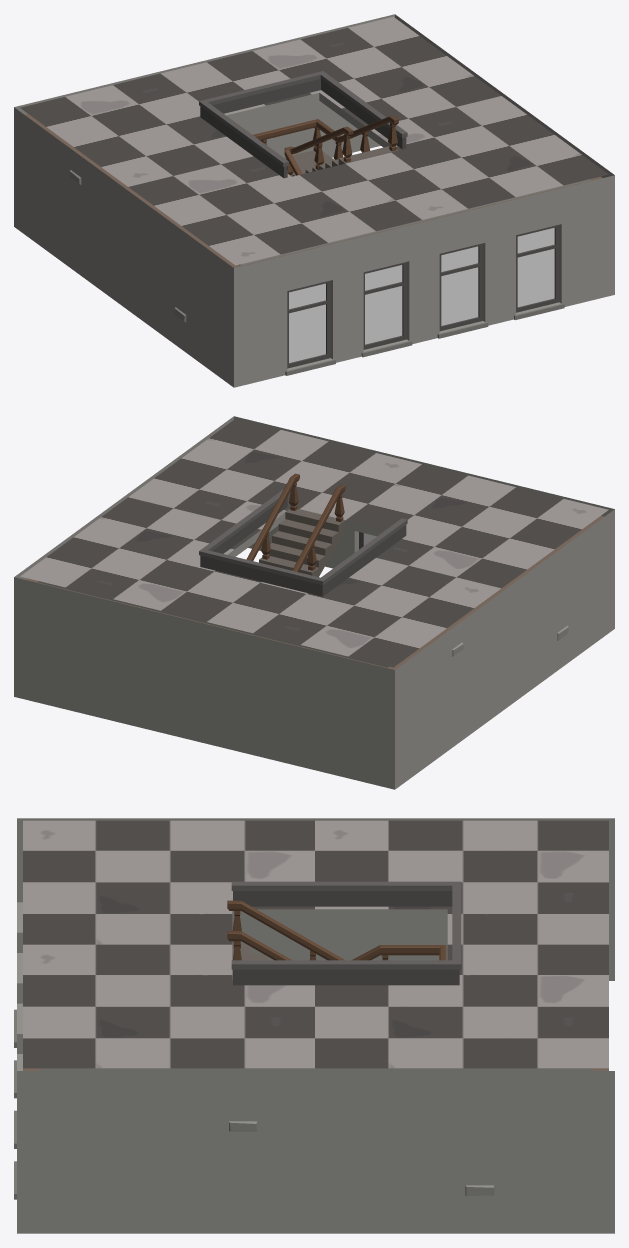
Rendered from SM_Bldg_City_High-Rise_05_Mid_01.fbx.
The picture shows the model from 3 angles, top to bottom: view 1: azimuth 30°, elevation 25°; view 2: azimuth 150°, elevation 25°; view 3: azimuth 270°, elevation 25°; orthographic projection. The views are drawn at different scales.
Visible parts, largest first — view 1: SM_Bldg_City_High-Rise_05_Mid_01, SM_Bldg_City_High-Rise_05_Mid_01_Glass; view 2: SM_Bldg_City_High-Rise_05_Mid_01; view 3: SM_Bldg_City_High-Rise_05_Mid_01.
Boxes of the visible parts, left/top/right/bottom form: SM_Bldg_City_High-Rise_05_Mid_01: left=14, top=14, right=614, bottom=387; SM_Bldg_City_High-Rise_05_Mid_01_Glass: left=289, top=227, right=554, bottom=362; SM_Bldg_City_High-Rise_05_Mid_01: left=14, top=416, right=614, bottom=789; SM_Bldg_City_High-Rise_05_Mid_01: left=14, top=818, right=614, bottom=1233.
Size of the model in its own units: 1008 by 384 by 1005.
